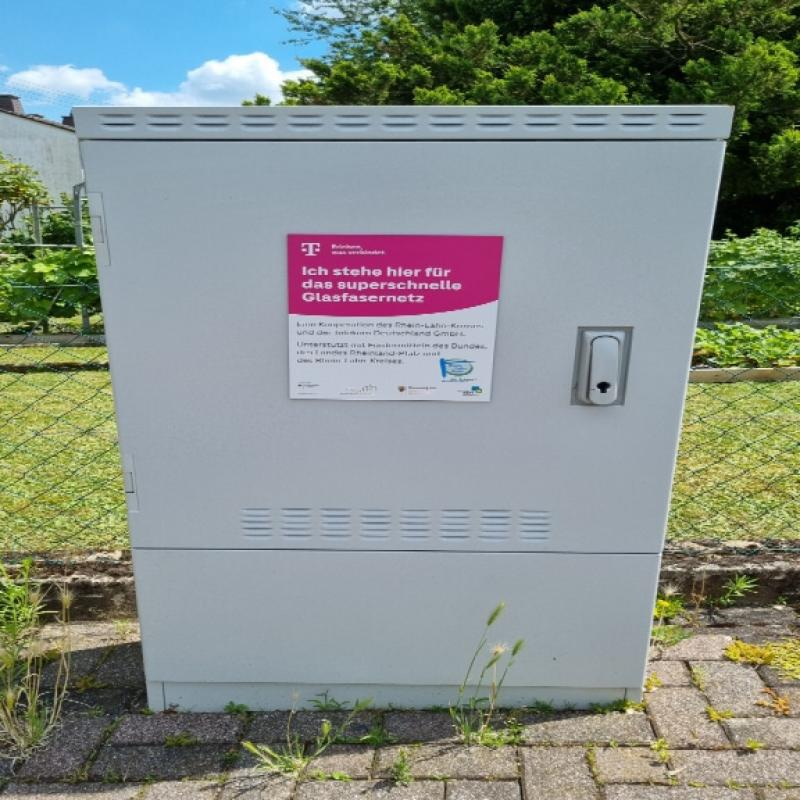NT-Gehause: (69, 104, 735, 719)
Steaker: (284, 235, 501, 401)
